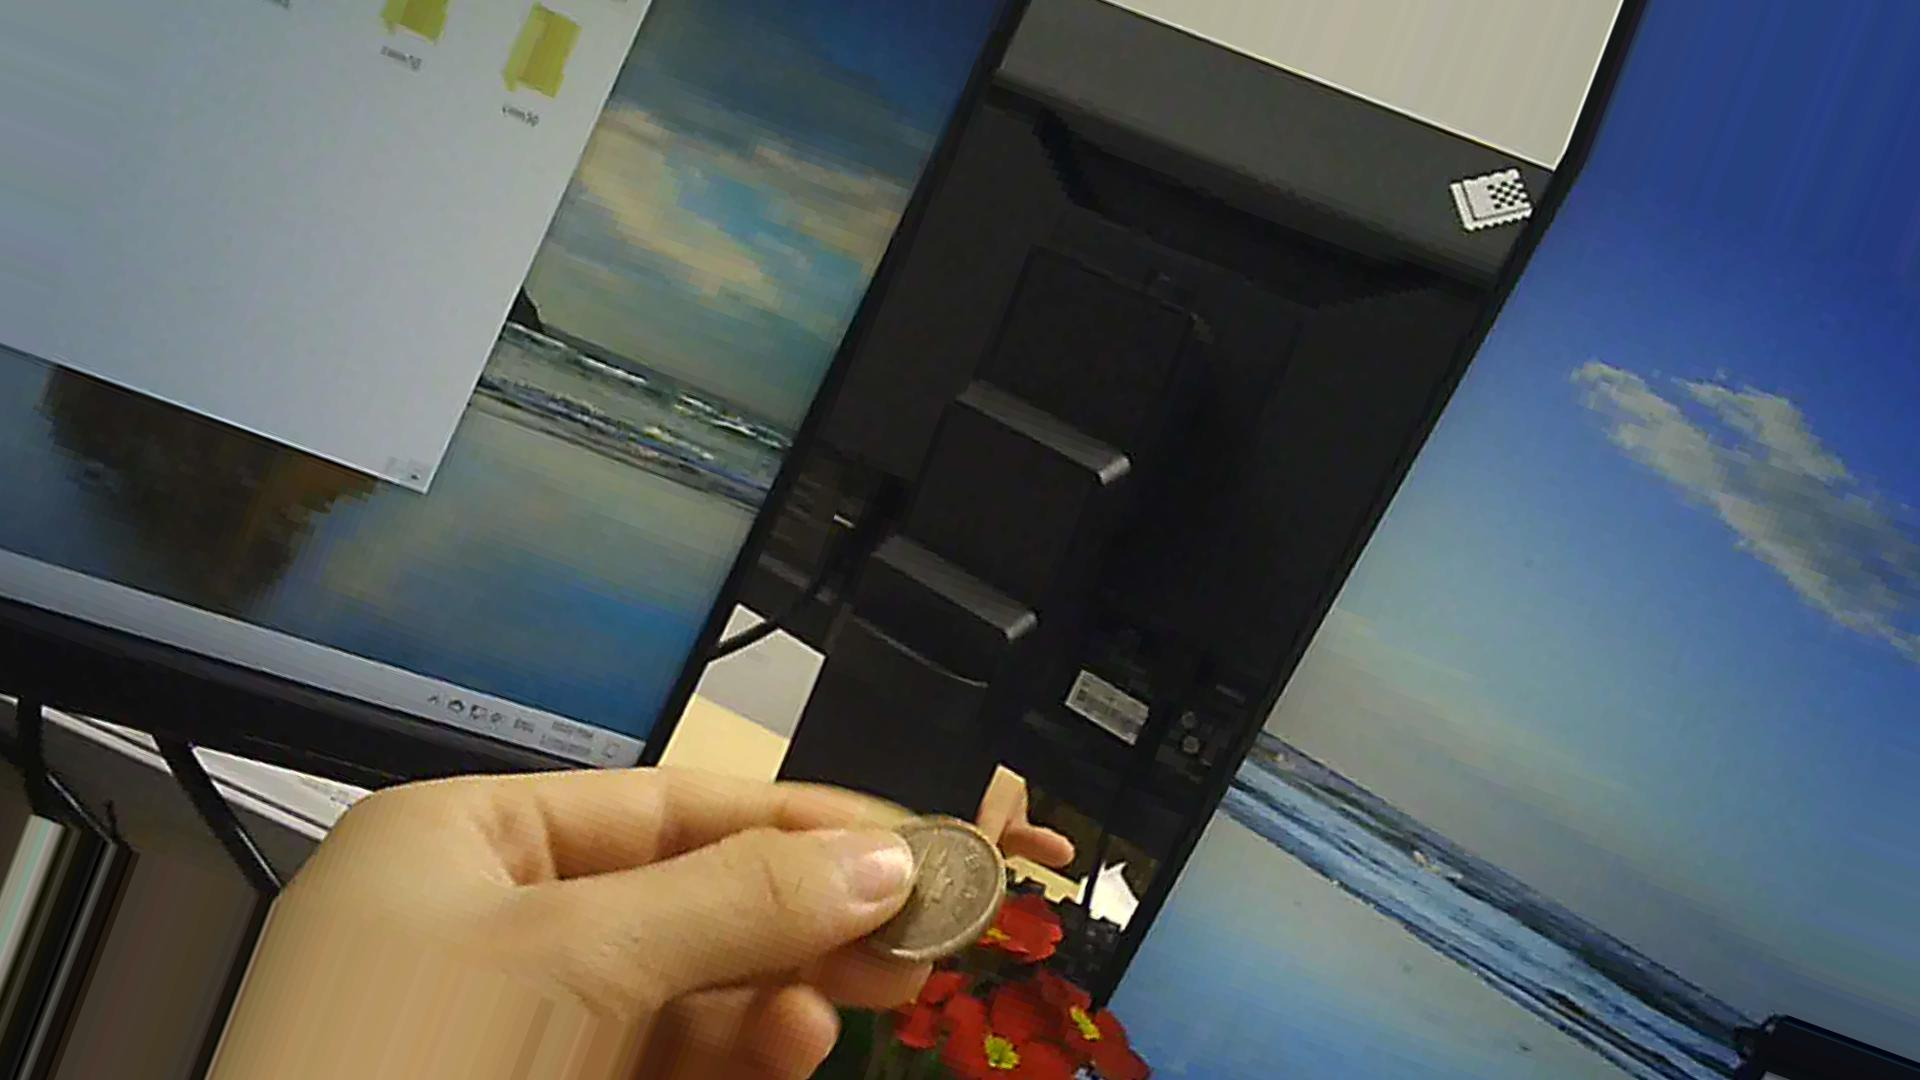10 Yen: (833, 811, 1013, 967)
